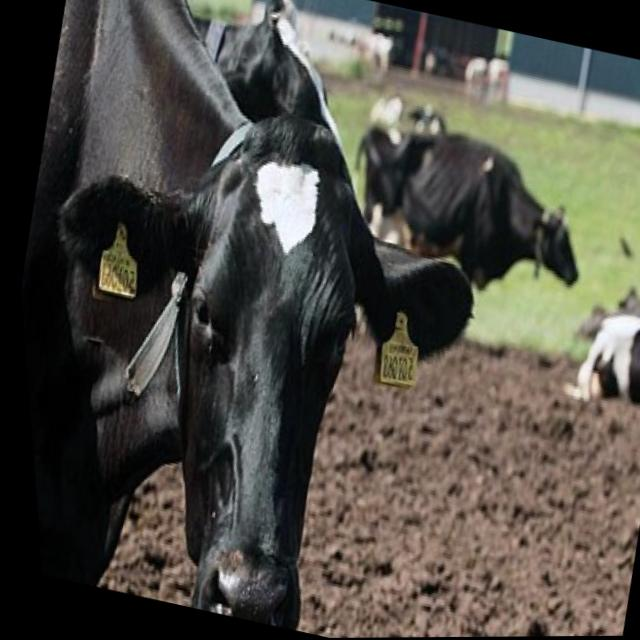cowFace: (3, 41, 520, 640)
